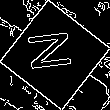N_E: (28, 32, 82, 78)
